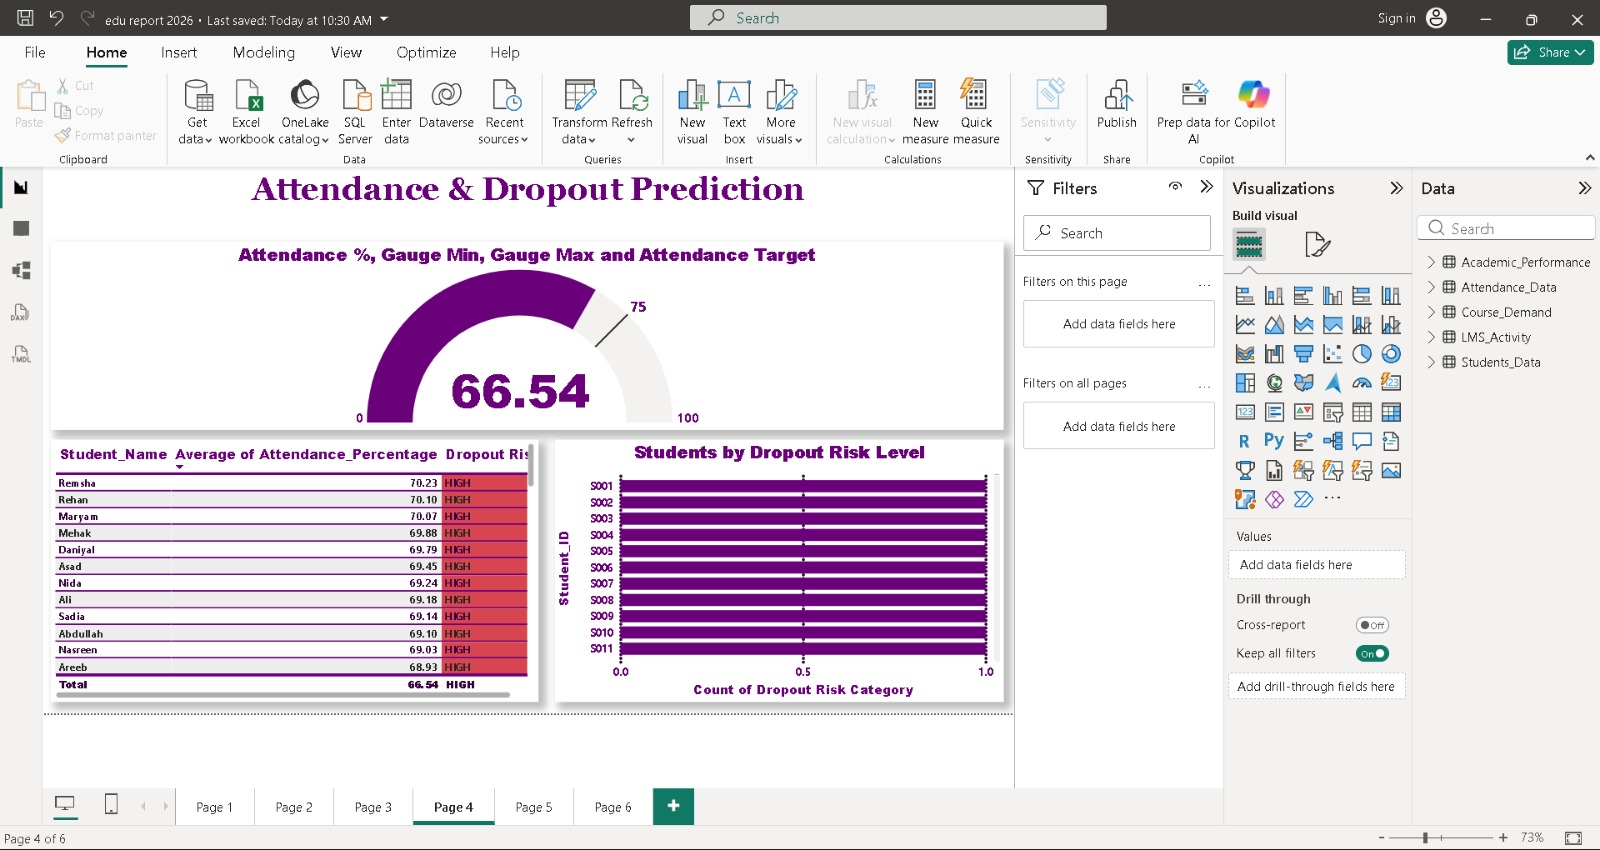

What the dashboard file says about the page in this screenshot:
{"tool":"powerbi","page":{"name":"Page 4","canvas":[1280,720],"ordinal":3},"visuals":[{"type":"textbox","box":[0,0,1280,79.8],"z":0},{"type":"gauge","fields":{"Y":["Attendance_Data.Attendance %"],"MinValue":["Attendance_Data.Gauge Min"],"MaxValue":["Attendance_Data.Gauge Max"],"TargetValue":["Attendance_Data.Attendance Target"]},"box":[11,98.8,1255.6,248.4],"z":1000},{"type":"tableEx","fields":{"Values":["Students_Data.Student_Name","Avg(Attendance_Data.Attendance_Percentage)","Attendance_Data.Dropout Risk"]},"box":[11,359.5,642.2,345.8],"z":2000},{"type":"barChart","title":"Students by Dropout Risk Level","fields":{"Y":["CountNonNull(Students_Data.Dropout Risk Category)"],"Category":["Students_Data.Student_ID"]},"box":[675.1,359.5,591.4,345.8],"z":3000}]}

Visuals, with their boxes on the page's 1280x720 design canvas (x1, y1, x2, y2). These are canvas units, not pixel positions in the 1600x850 screenshot, which may show the page scaled, cropped or inside an application window:
textbox: box(0, 0, 1280, 80)
gauge - Attendance_Data.Attendance % x Attendance_Data.Gauge Min: box(11, 99, 1267, 347)
tableEx - Students_Data.Student_Name x Avg(Attendance_Data.Attendance_Percentage): box(11, 360, 653, 705)
"Students by Dropout Risk Level" barChart: box(675, 360, 1266, 705)
